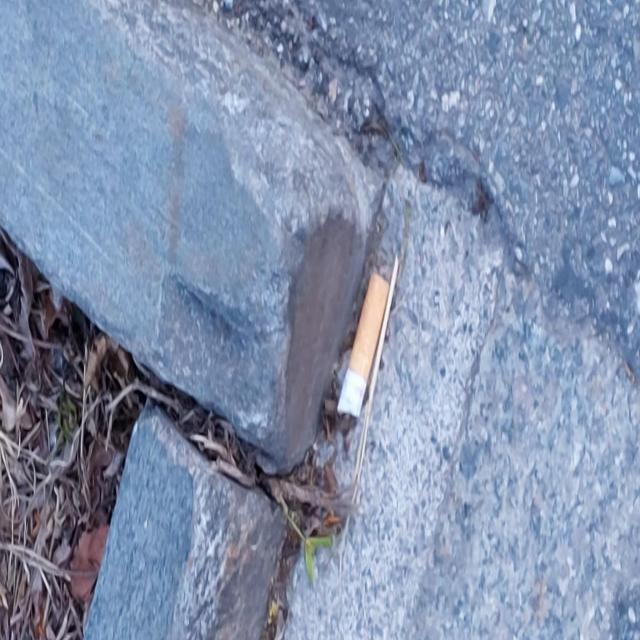other waste: (336, 270, 390, 420)
